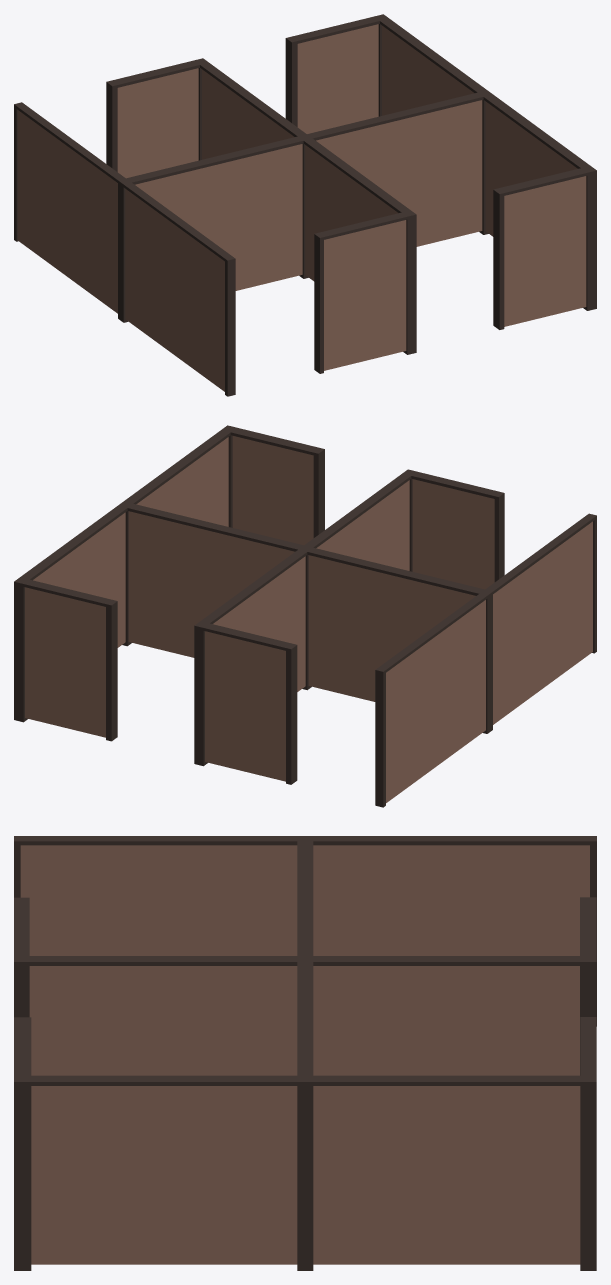
The model's file is Cage.fbx.
3 renders of one model, top to bottom at view 1: azimuth 30°, elevation 25°; view 2: azimuth 150°, elevation 25°; view 3: azimuth 270°, elevation 25°, orthographic. The views are drawn at different scales.
Parts seen in each view (by area): view 1: Cage; view 2: Cage; view 3: Cage.
Boxes of the visible parts, x1,y1,x2,y2 form: Cage: [14, 14, 596, 396]; Cage: [14, 425, 596, 807]; Cage: [14, 836, 596, 1270].
Size of what is drawn, in the model's own units: 404 by 145 by 405.
